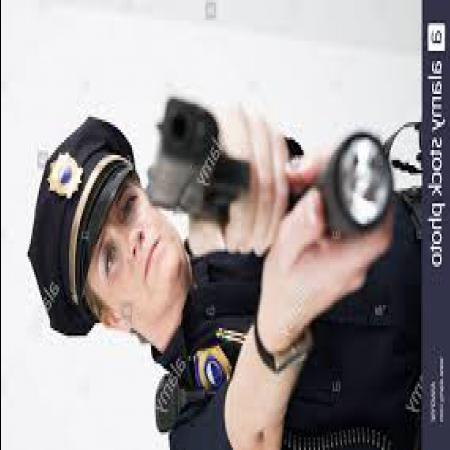Pistol: (138, 84, 258, 229)
